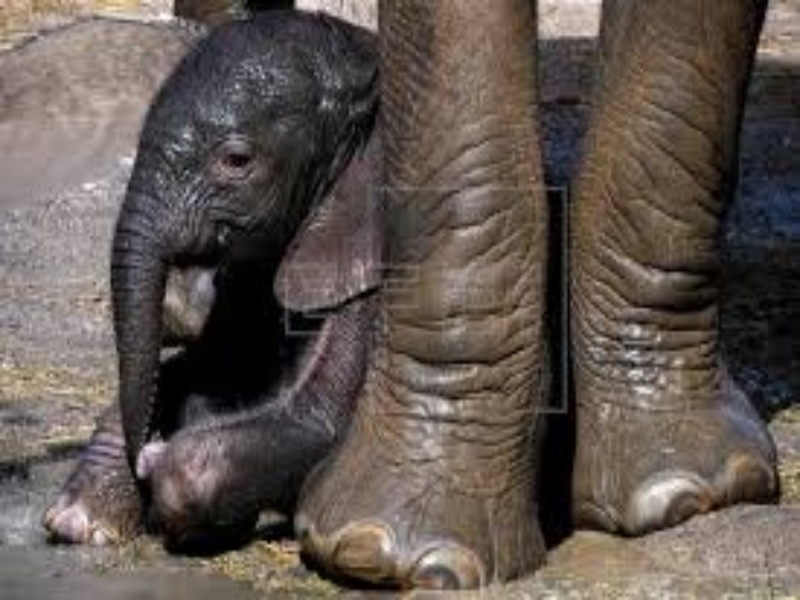elephant: (48, 8, 370, 546)
